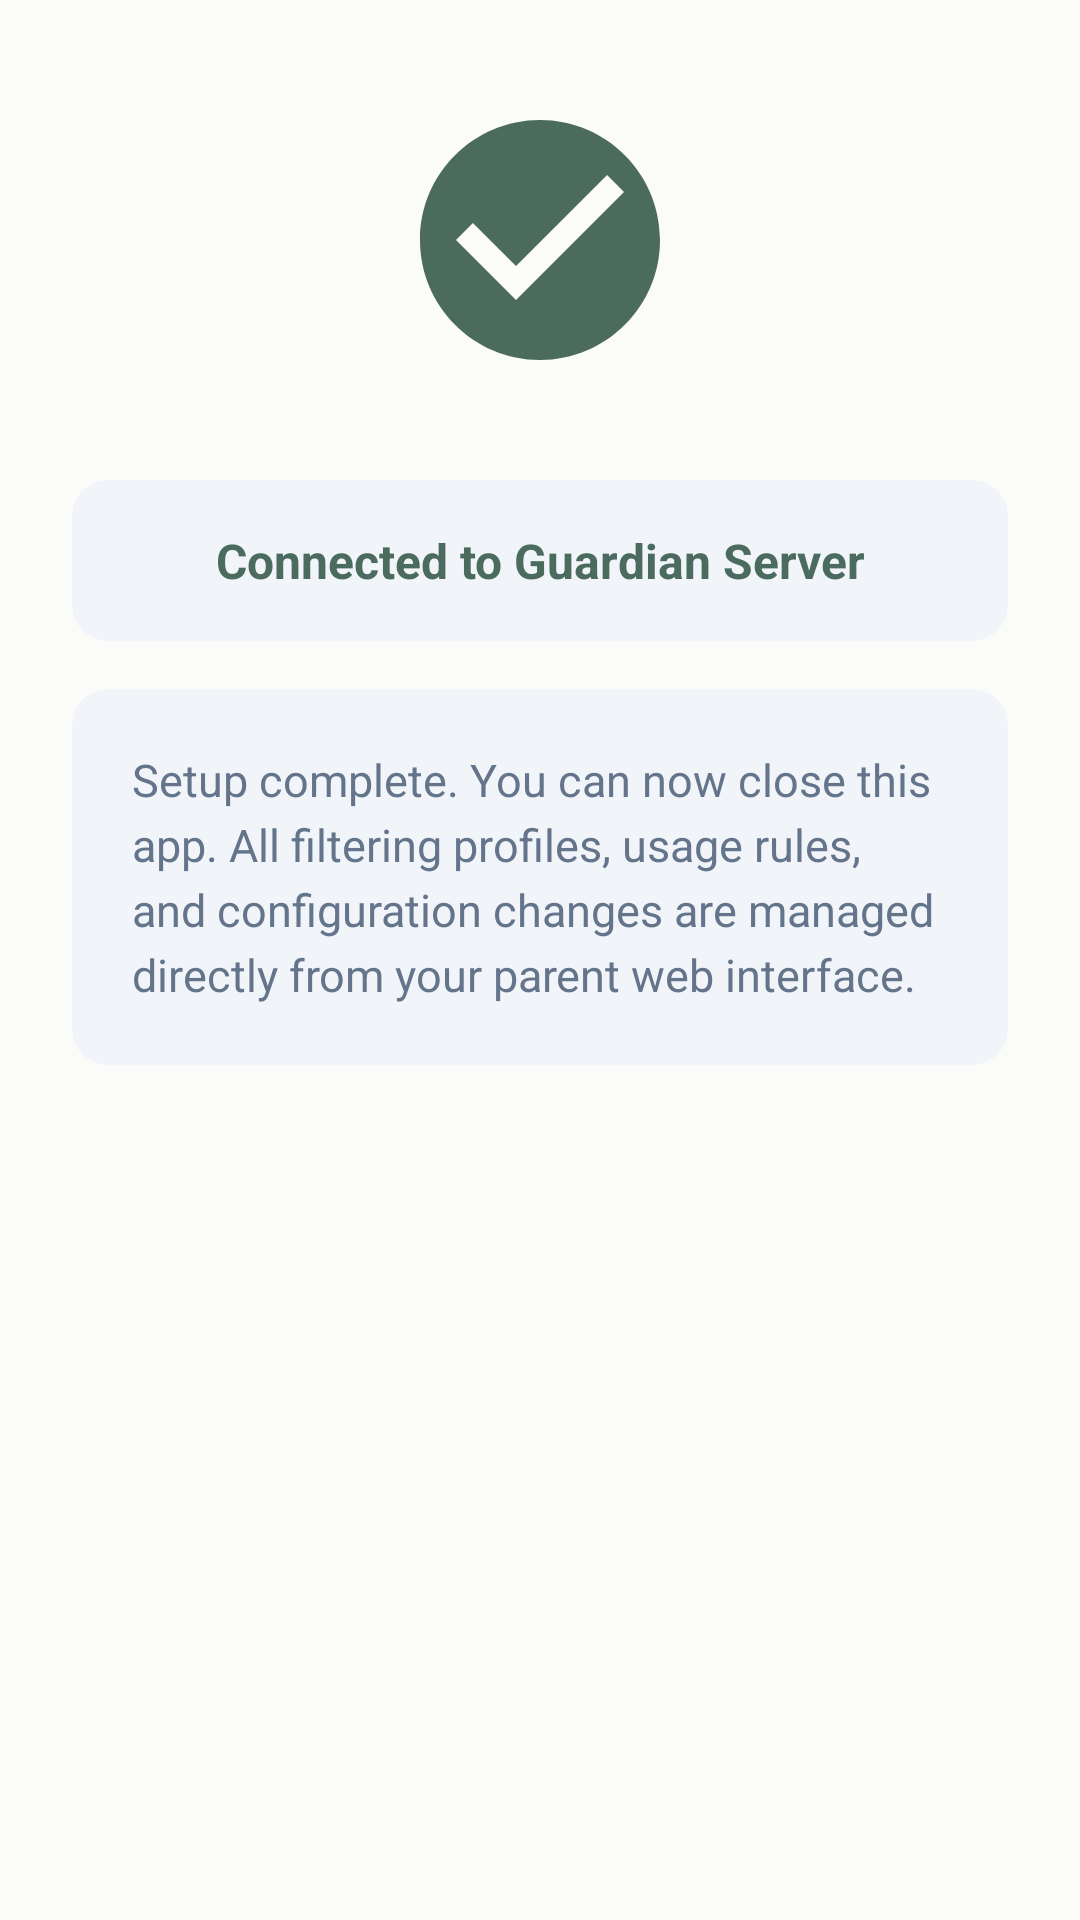

Where to tap for icons on this 1080*1920 app screen, as [x,y]:
check circle: [540,240]
